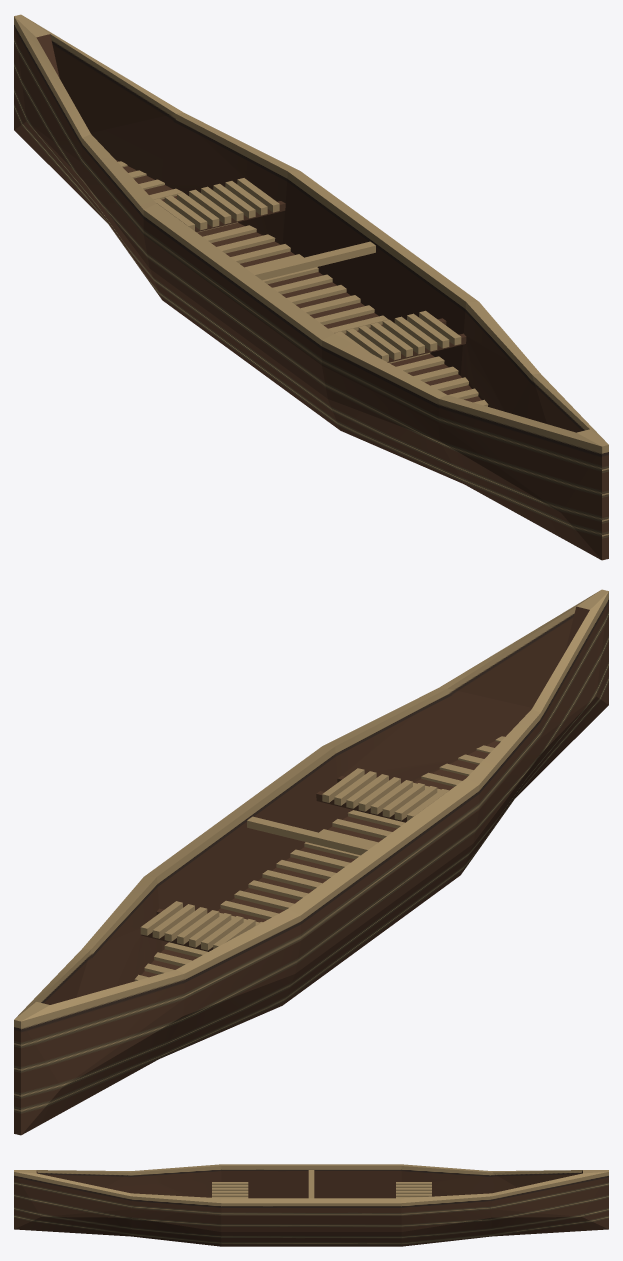
3 views of the same model, one above another, from view 1: azimuth 30°, elevation 25°; view 2: azimuth 150°, elevation 25°; view 3: azimuth 270°, elevation 25° (orthographic). The views are drawn at different scales.
Parts seen in each view (by area): view 1: Canoe_4; view 2: Canoe_4; view 3: Canoe_4.
Part boxes in pixels (x1,y1,x2,y2): Canoe_4: [14, 14, 608, 560]; Canoe_4: [14, 589, 608, 1135]; Canoe_4: [14, 1164, 608, 1246].
Size of the model in its own units: 130 by 95 by 842.
1 material, 1 textured.
